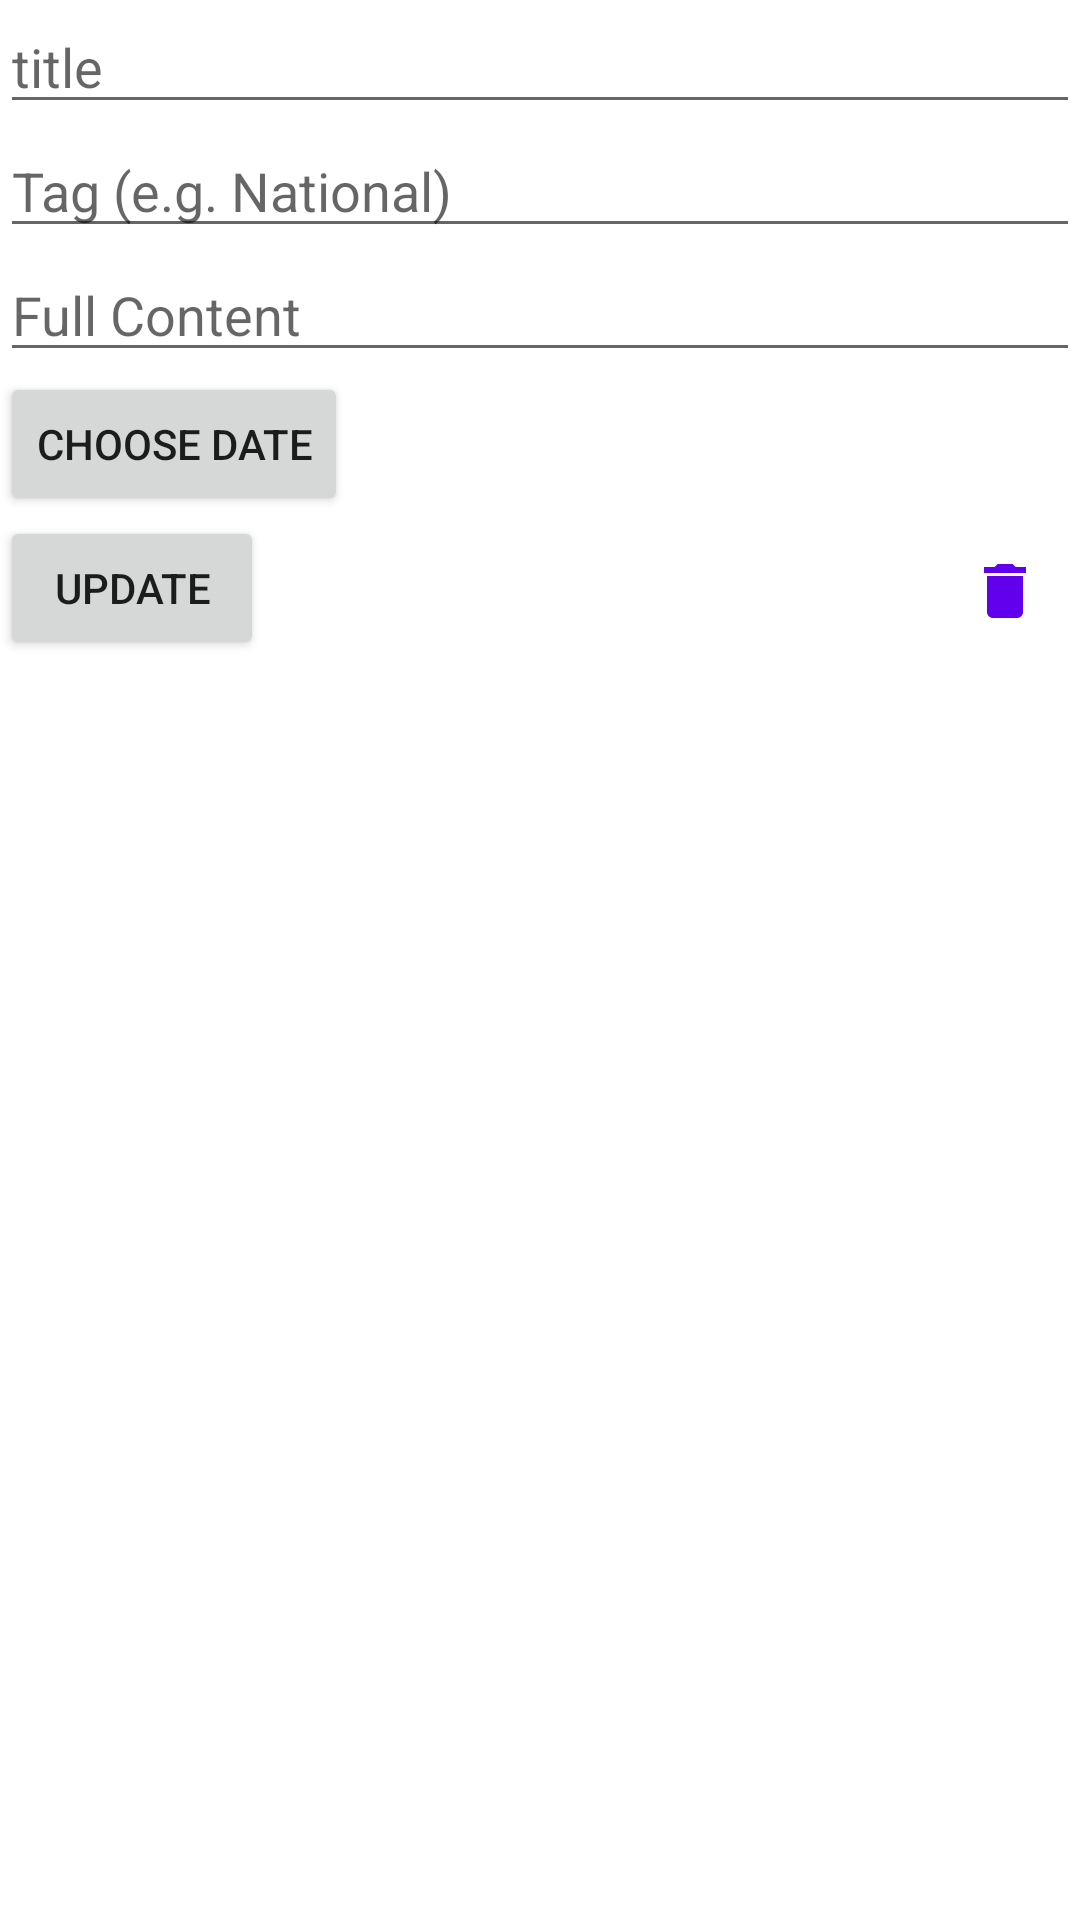

Icon bounding boxes for this 1080x1920 phone screenshot, format detection(x1, y1, x2, y2):
delete: detection(984, 564, 1026, 618)
